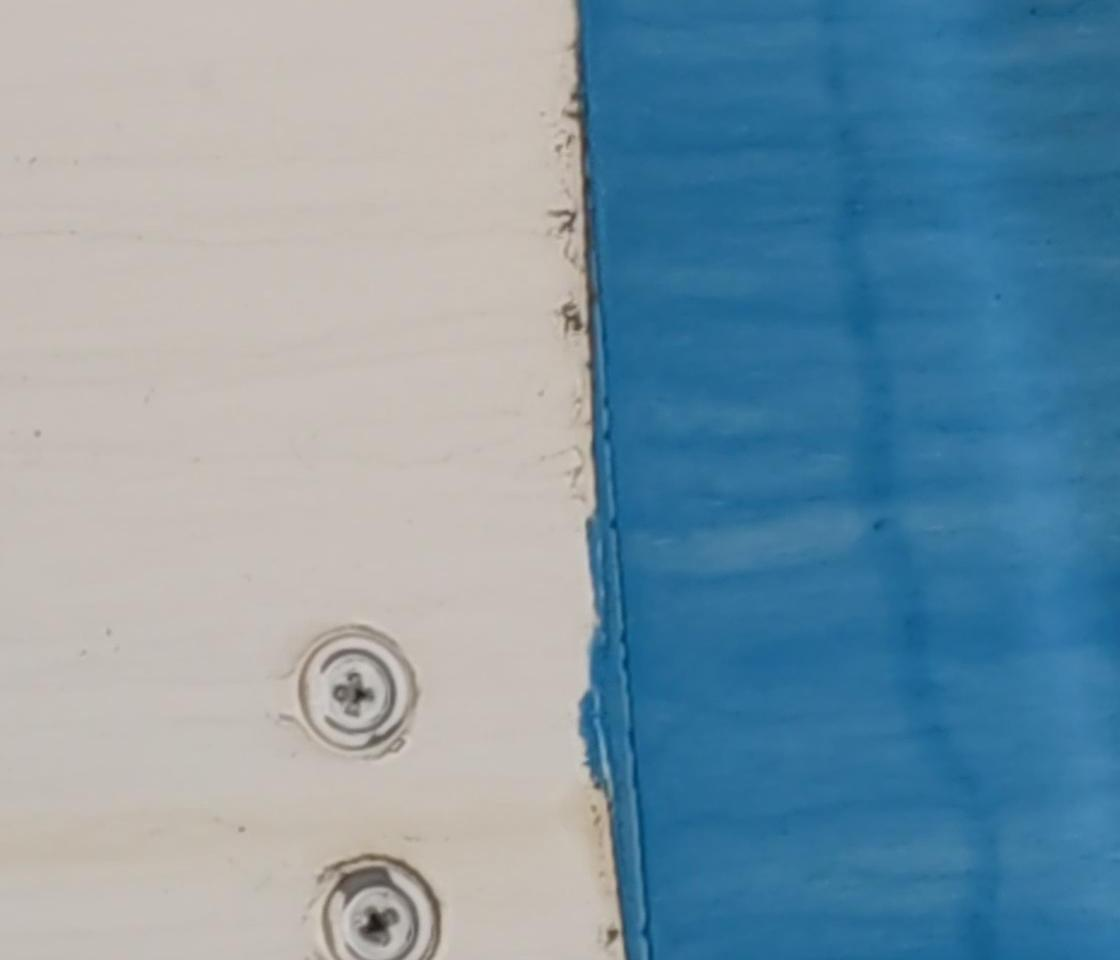rivet_damage: (308, 854, 443, 960)
